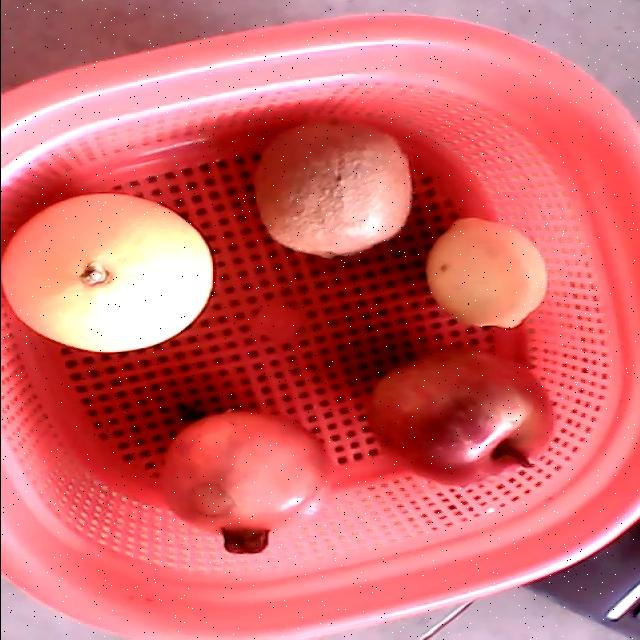apple: (367, 347, 555, 485)
kiwi: (254, 116, 411, 257)
lemon: (425, 216, 549, 330)
orange: (1, 193, 216, 354)
pomegranate: (160, 409, 338, 553)
